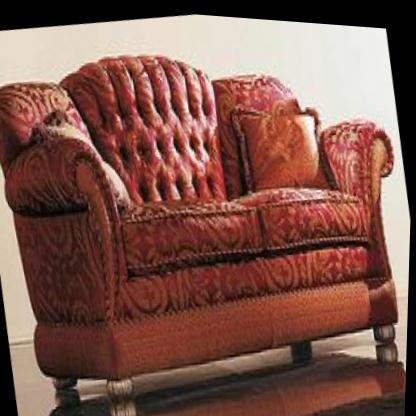Sofa: (0, 4, 416, 416)
